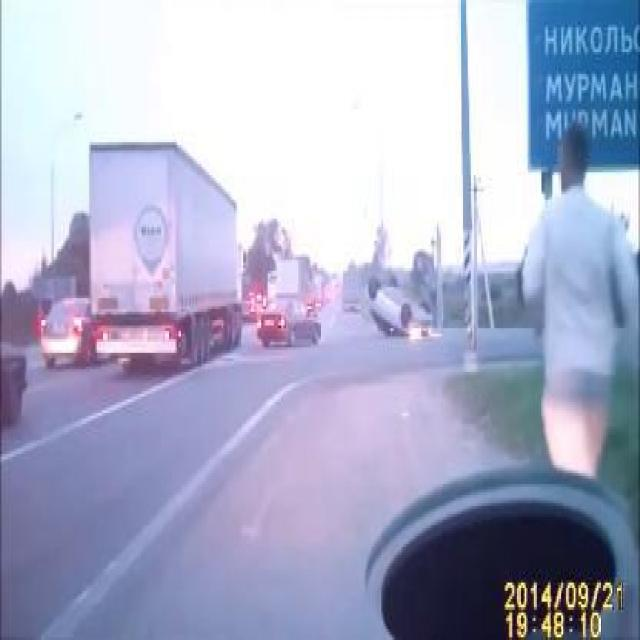accident: (363, 265, 434, 342)
